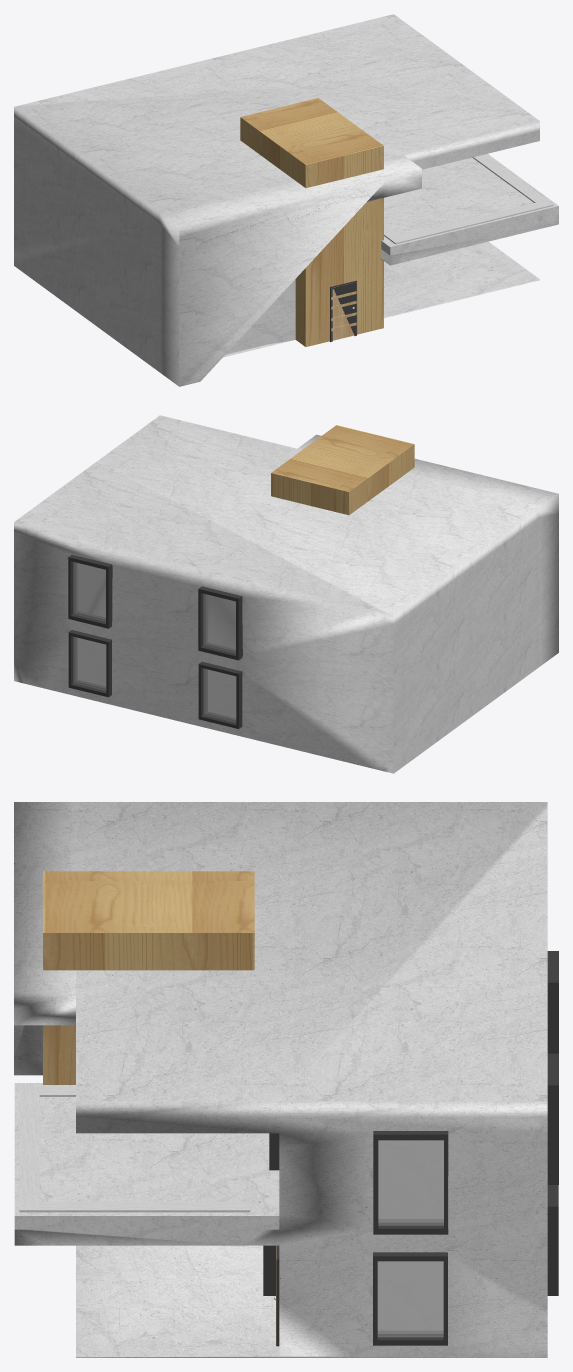
The model's file is CASA.1.fbx.
The picture shows the model from 3 angles, top to bottom: view 1: azimuth 30°, elevation 25°; view 2: azimuth 150°, elevation 25°; view 3: azimuth 270°, elevation 25°; orthographic projection. The views are drawn at different scales.
Parts seen in each view (by area): view 1: pasted__CASA, pasted__pCube2, pasted__pCube143, pasted__porta22, pasted__pCube144, pasted__porta18; view 2: pasted__CASA, pasted__pCube2, pasted__pCube141, pasted__pCube139, pasted__pCube142, pasted__pCube140; view 3: pasted__CASA, pasted__pCube2, pasted__pCube6, pasted__pCube7, pasted__pCube143, pasted__pCube144, pasted__pCube139, pasted__pCube140, pasted__pCube141.
Boxes of the visible parts, bbox=[...] form: pasted__CASA: bbox=[14, 14, 558, 386]; pasted__pCube2: bbox=[240, 98, 383, 346]; pasted__pCube143: bbox=[389, 200, 553, 244]; pasted__porta22: bbox=[331, 282, 356, 341]; pasted__pCube144: bbox=[472, 154, 546, 202]; pasted__porta18: bbox=[330, 280, 356, 341]; pasted__CASA: bbox=[14, 415, 558, 773]; pasted__pCube2: bbox=[271, 425, 414, 515]; pasted__pCube141: bbox=[198, 586, 242, 660]; pasted__pCube139: bbox=[68, 554, 112, 628]; pasted__pCube142: bbox=[198, 661, 242, 728]; pasted__pCube140: bbox=[68, 630, 111, 697]; pasted__CASA: bbox=[14, 802, 547, 1357]; pasted__pCube2: bbox=[43, 871, 254, 1084]; pasted__pCube6: bbox=[373, 1131, 448, 1234]; pasted__pCube7: bbox=[373, 1252, 447, 1345]; pasted__pCube143: bbox=[19, 1086, 39, 1212]; pasted__pCube144: bbox=[39, 1201, 250, 1212]; pasted__pCube139: bbox=[547, 1053, 558, 1184]; pasted__pCube140: bbox=[547, 1185, 558, 1295]; pasted__pCube141: bbox=[547, 951, 558, 1053].
Bounding box in the file's own units: 1520 × 689 × 1155.
